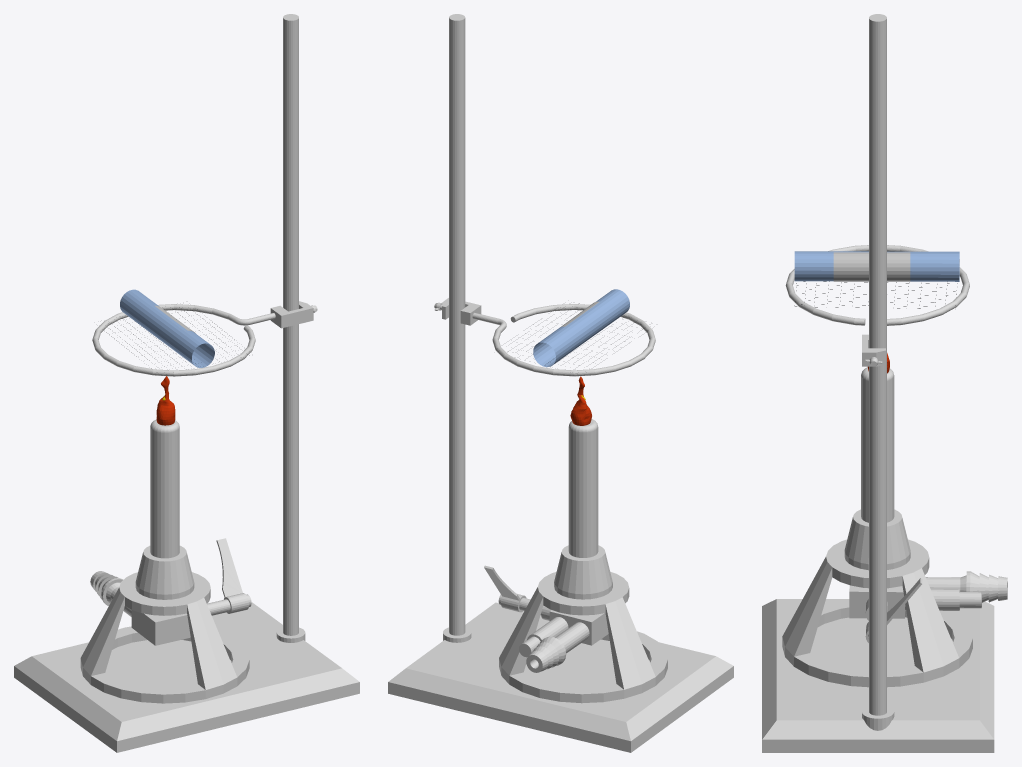
Rendered from bunsen_burner.dae.
3 views of the same model, side by side, from view 1: azimuth 30°, elevation 25°; view 2: azimuth 150°, elevation 25°; view 3: azimuth 270°, elevation 25° (orthographic). The views are drawn at different scales.
Parts seen in each view (by area): view 1: support_st; view 2: support_st; view 3: support_st.
Part boxes in pixels (x1,y1,x2,y2): support_st: (14,14,359,752); support_st: (388,14,733,752); support_st: (762,14,1007,752).
Bounding box in the file's own units: 0.2431 × 0.1843 × 0.6005.
